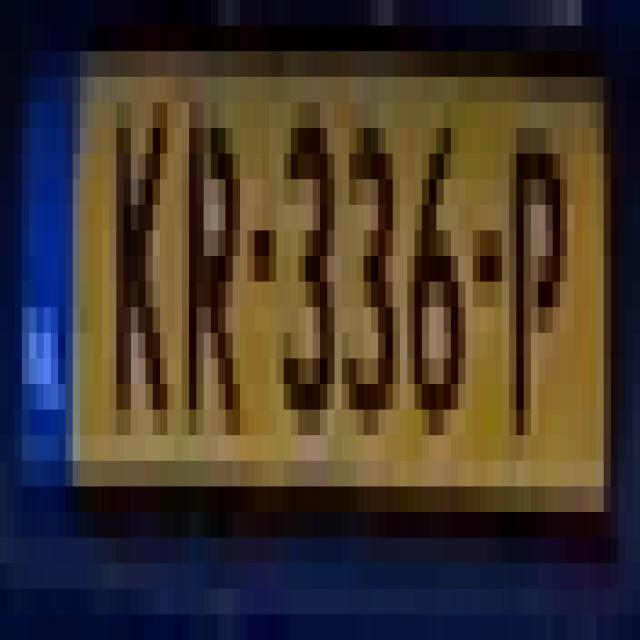Autre: (21, 55, 612, 528)
